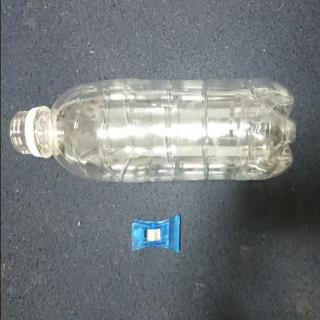Anorganik: (7, 72, 301, 185)
